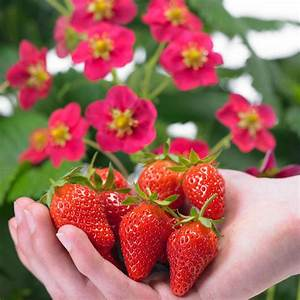Fresa: (47, 180, 118, 256), (115, 194, 167, 286), (166, 213, 220, 300), (135, 151, 191, 212), (182, 157, 230, 223)
